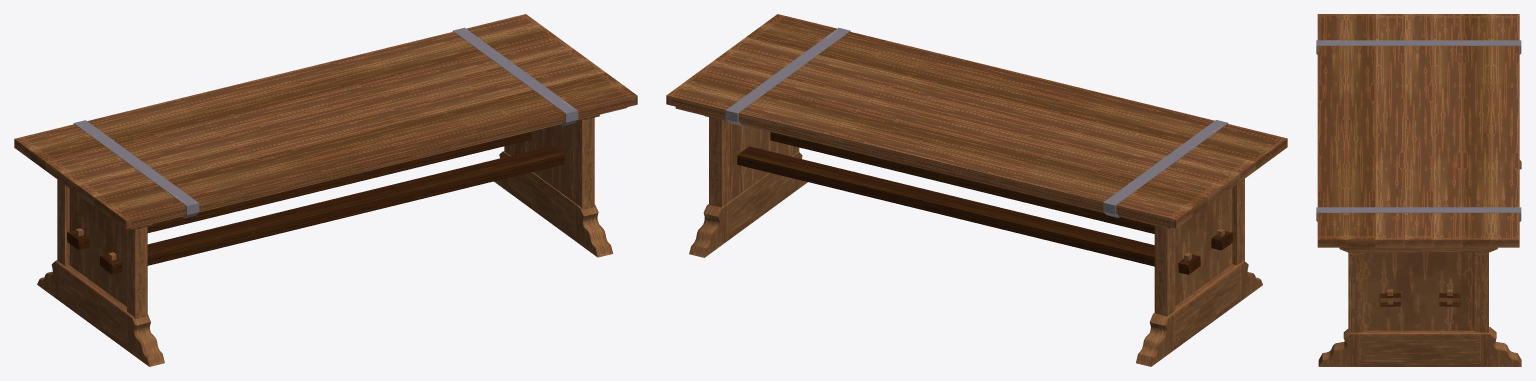
The model's file is prop_table.glb.
3 views of the same model, side by side, from view 1: azimuth 30°, elevation 25°; view 2: azimuth 150°, elevation 25°; view 3: azimuth 270°, elevation 25° (orthographic). The views are drawn at different scales.
Visible parts, largest first — view 1: Table_Large; view 2: Table_Large; view 3: Table_Large.
Boxes of the visible parts, x1,y1,x2,y2 form: Table_Large: (14,14,637,366); Table_Large: (666,14,1287,366); Table_Large: (1316,14,1521,366).
Size of the model in its own units: 2.85 by 0.8134 by 1.1.
Materials: 2 (2 with a texture image).
